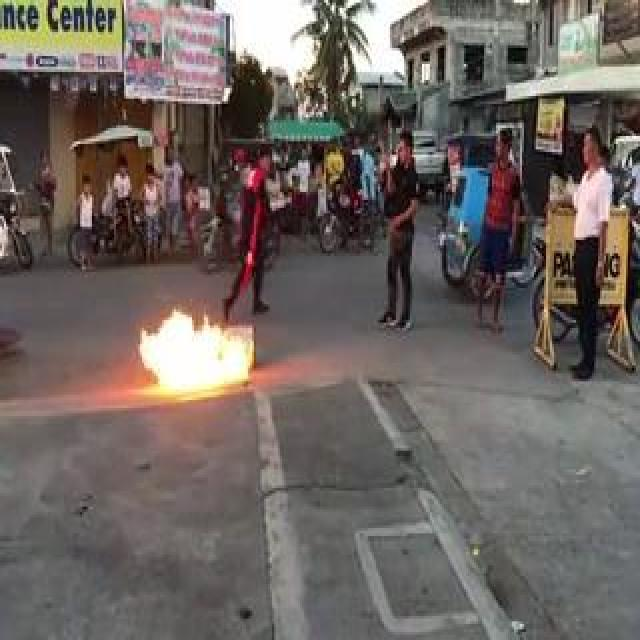Smoke: (137, 309, 251, 397)
